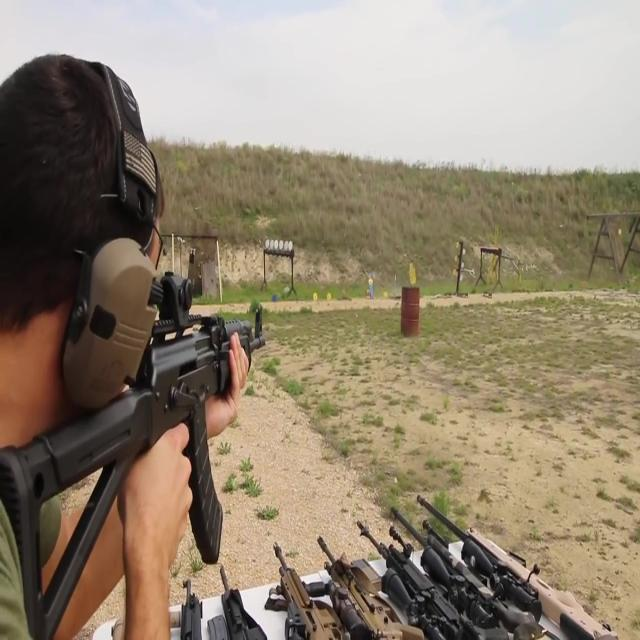Weapon: (89, 403, 640, 640), (0, 223, 290, 639)
